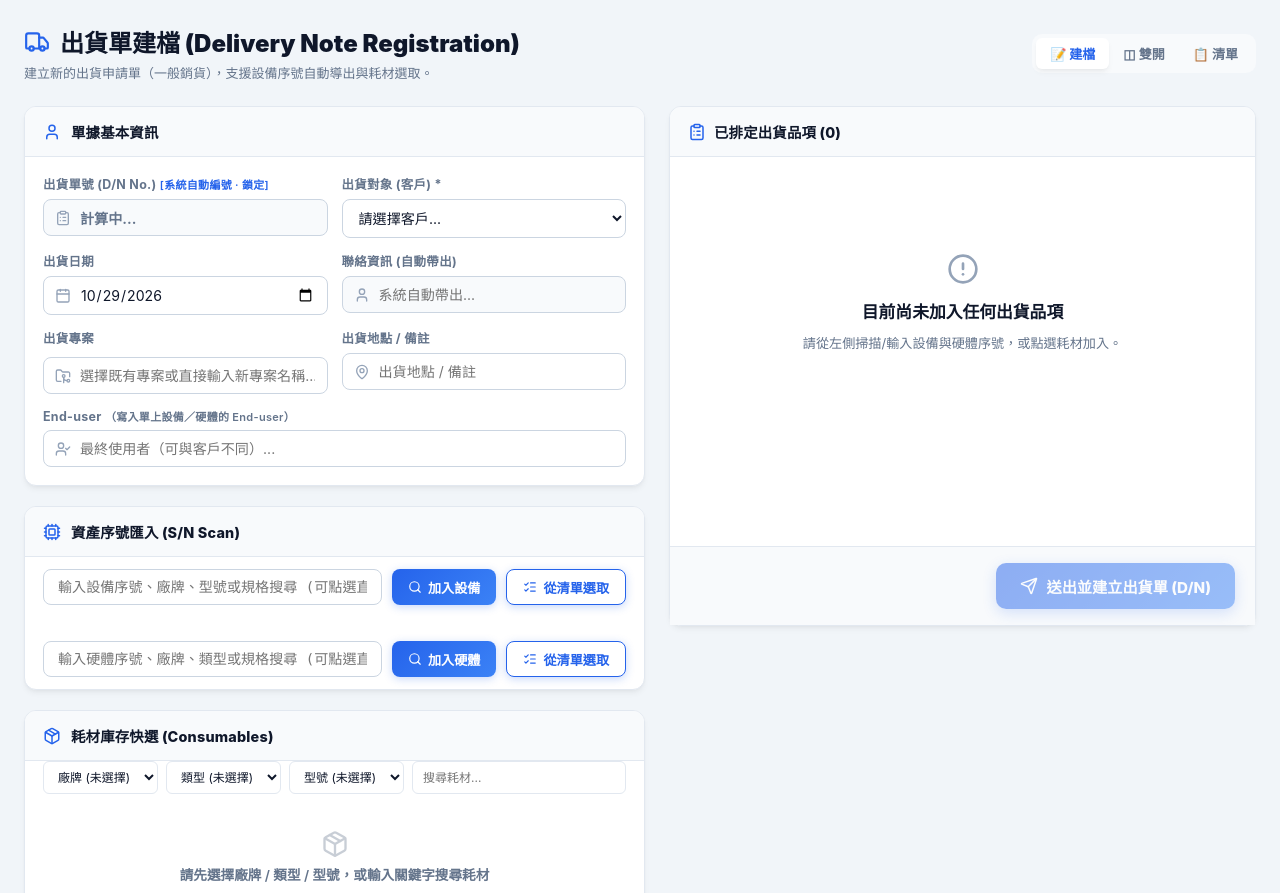
Outbound 出貨時自動立案與設備專案屬性回寫功能測試 › 4. 若嘗試輸入已出貨 (SHIPPED) 的設備序號，系統應彈出警示並禁止加入出貨清單，避免重複出貨
輸入已出貨的序號 SRV-SHIPPED
Step 1. Type "SRV-SHIPPED" into the field with placeholder "輸入設備序號、廠牌、型號或規格搜尋 (可點選直接加入)..." → (212, 587), box [43, 569, 382, 605]
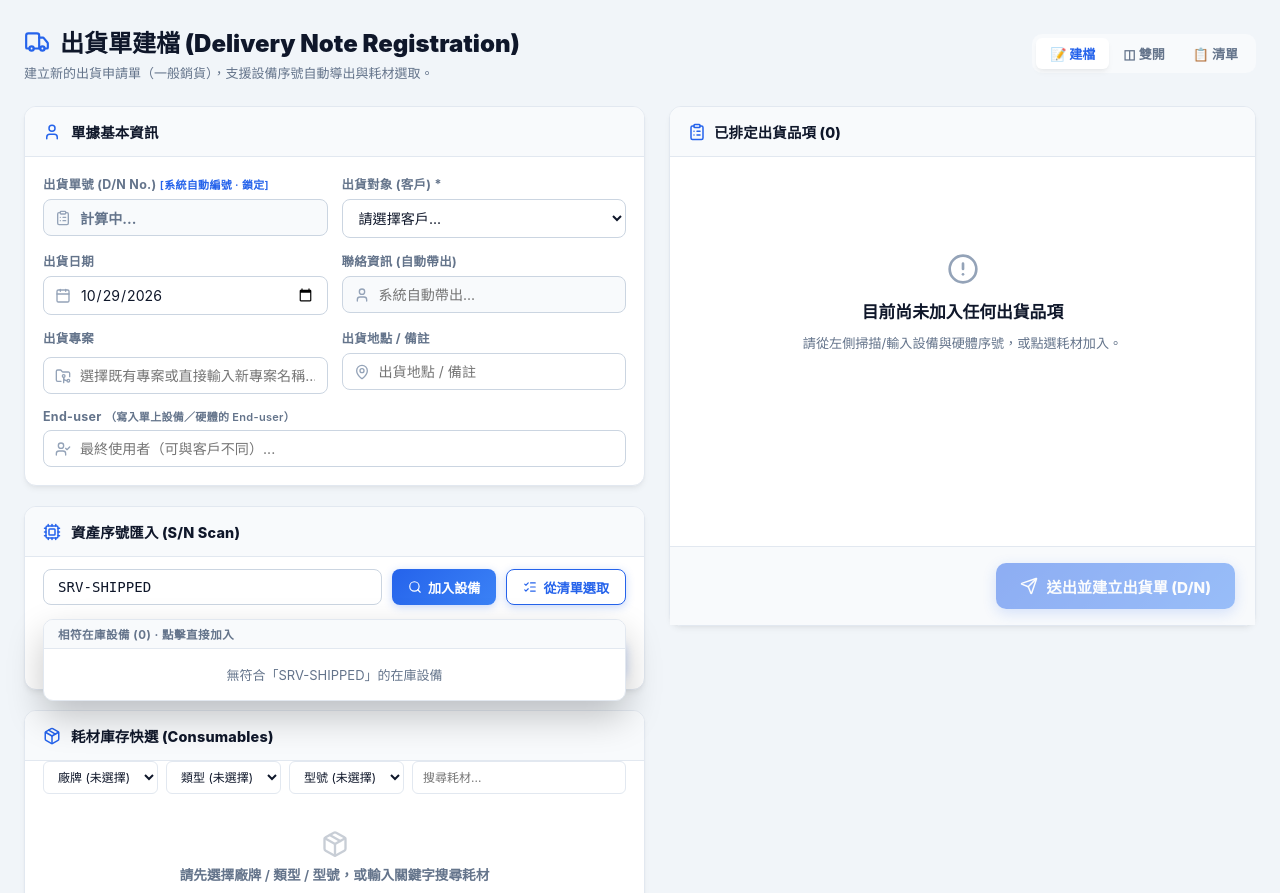
Step 2. Submit the form with placeholder "輸入設備序號", box [25, 557, 644, 617]
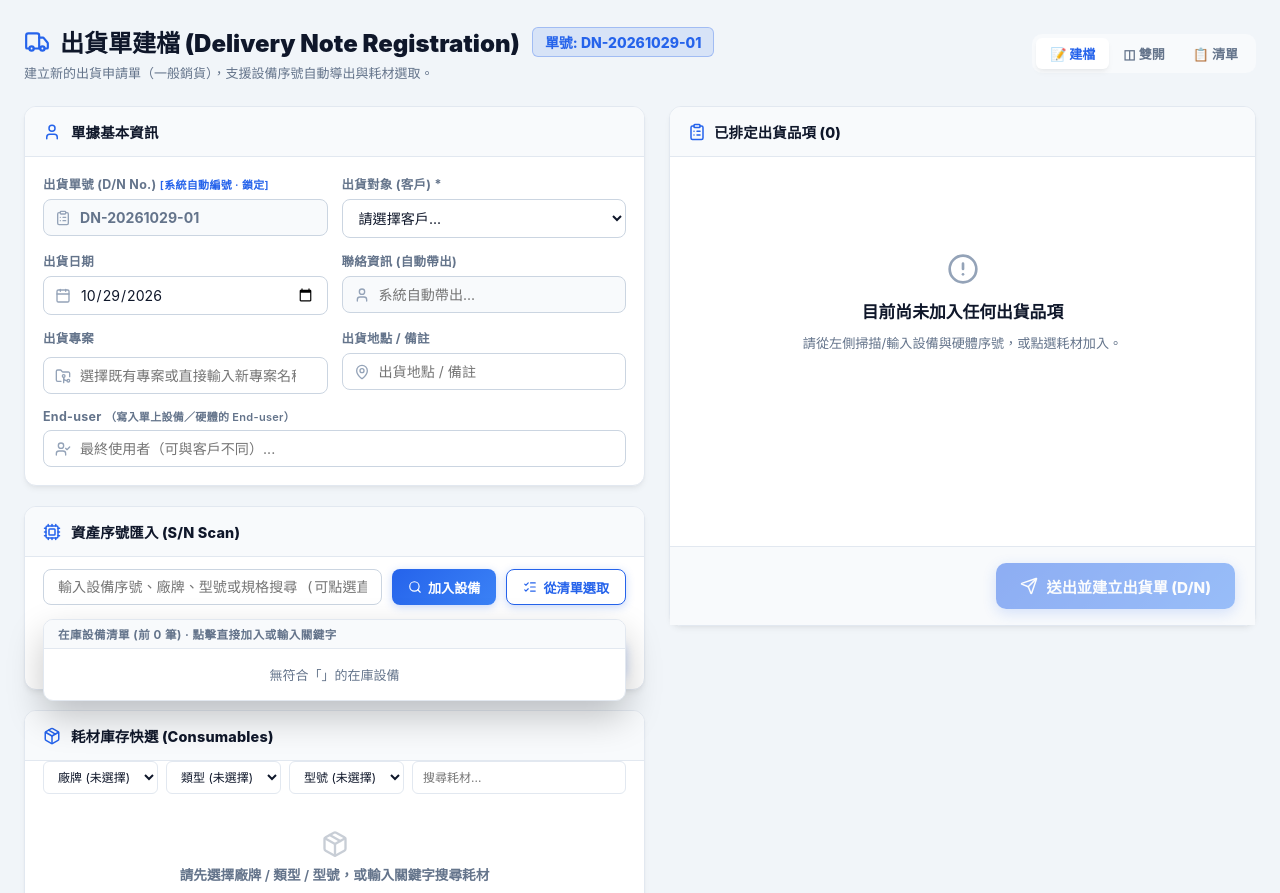
Expected: the text "SRV-SHIPPED" is gone
